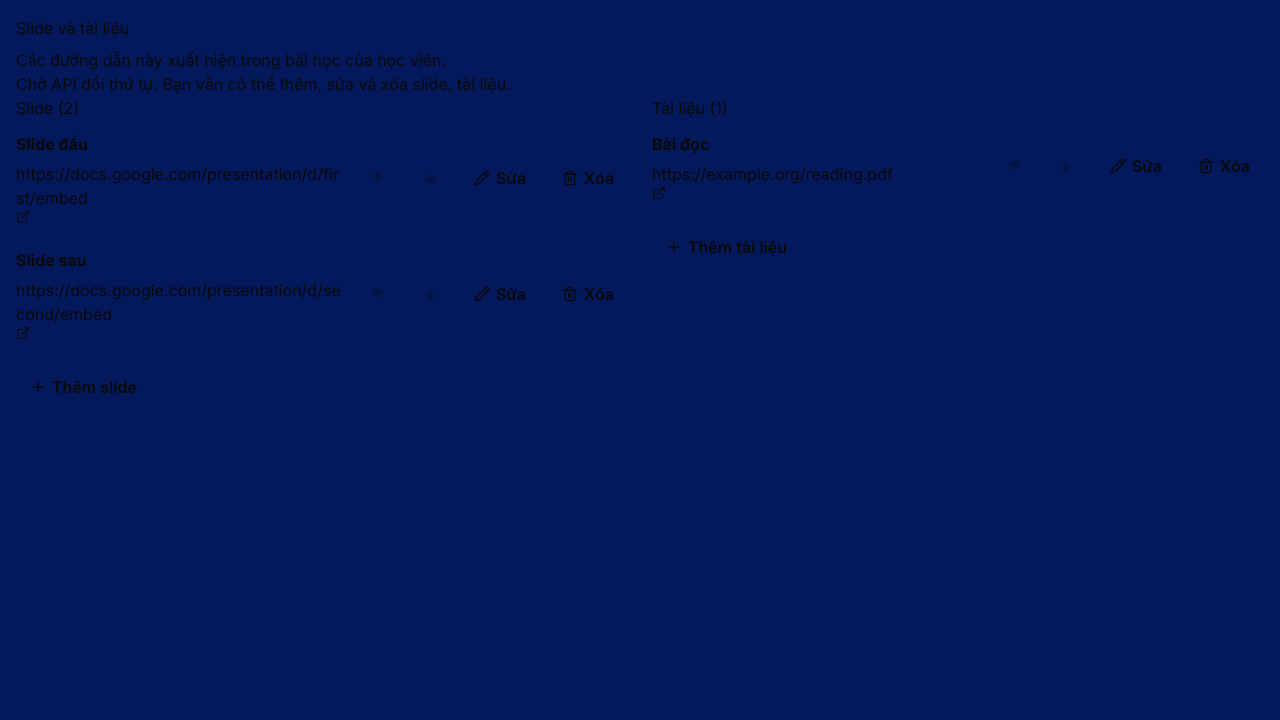
Test: LessonResourcesEditor › shows write errors and retains the form values
This screenshot has width=1280, height=720.
Click the button with aria-label "Sửa Bài đọc". click: {"x": 1136, "y": 166}
box: [1096,144,1176,188]
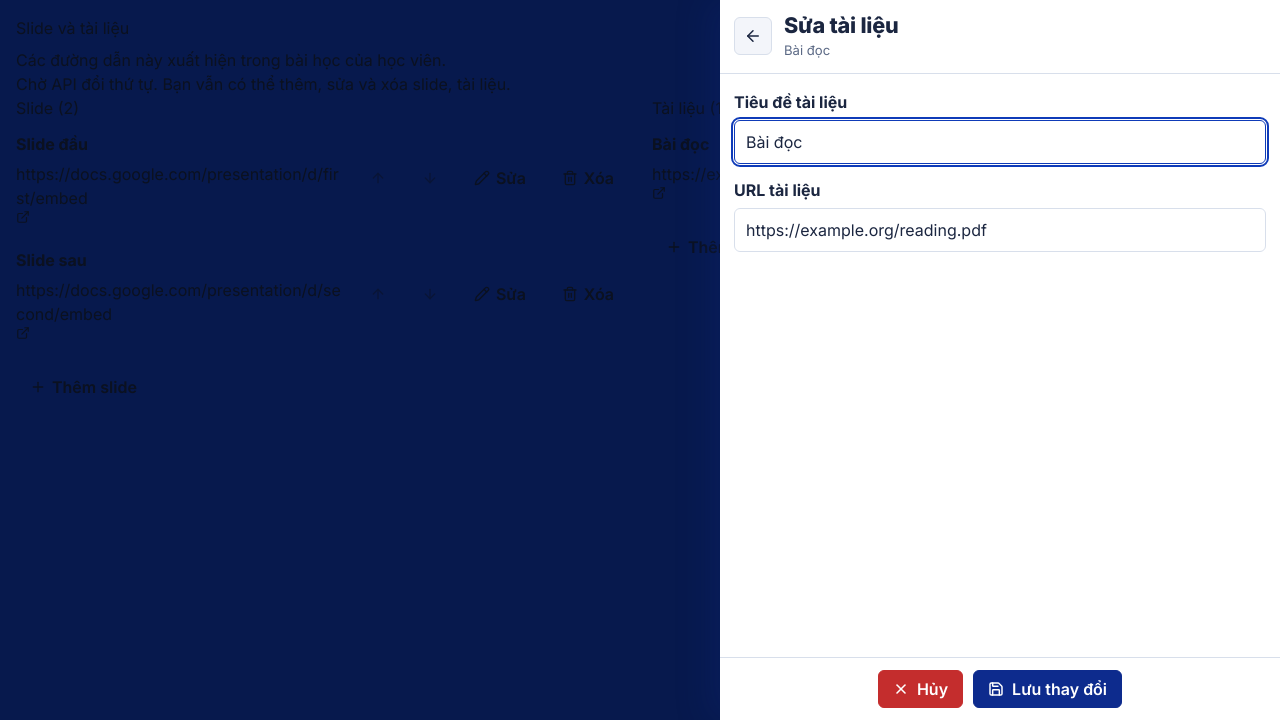
Submit the form named "Sửa tài liệu", box [734,90,1266,719]
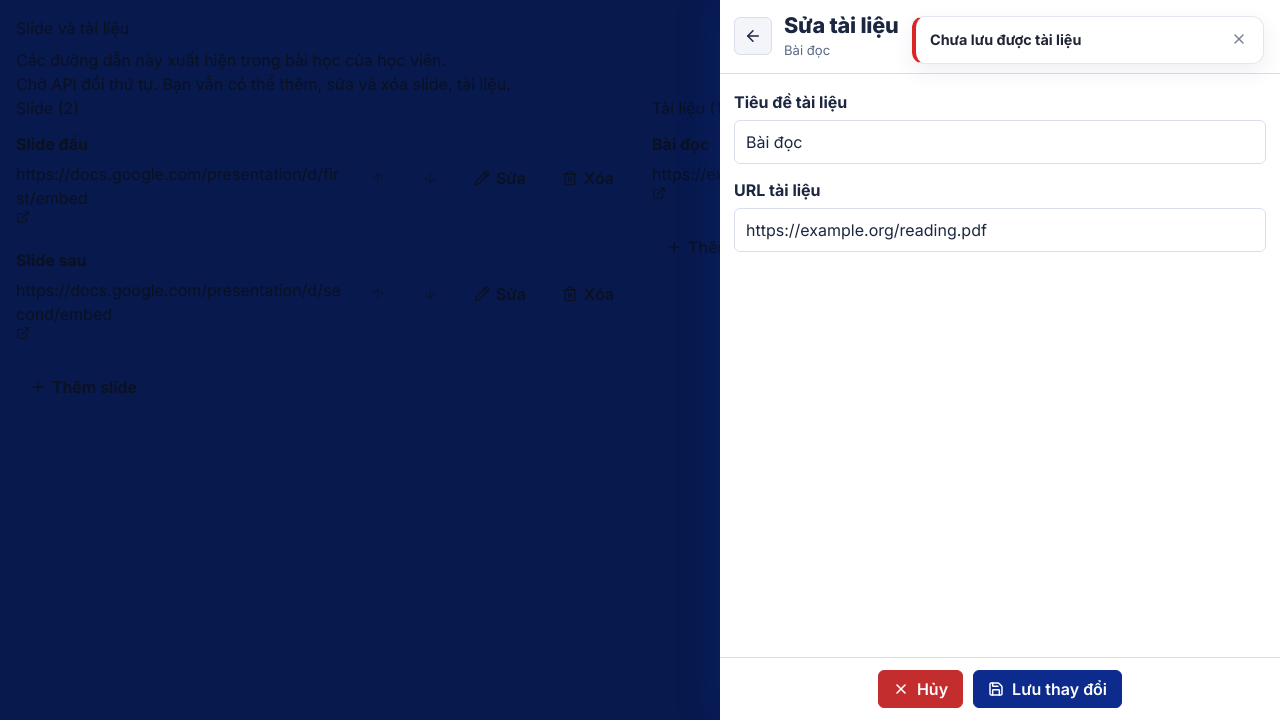
Now the field labelled "URL tài liệu" is shown, box [734,208,1266,252]
Now the message reads "Chưa lưu được tài liệu", box [930,31,1081,48]
